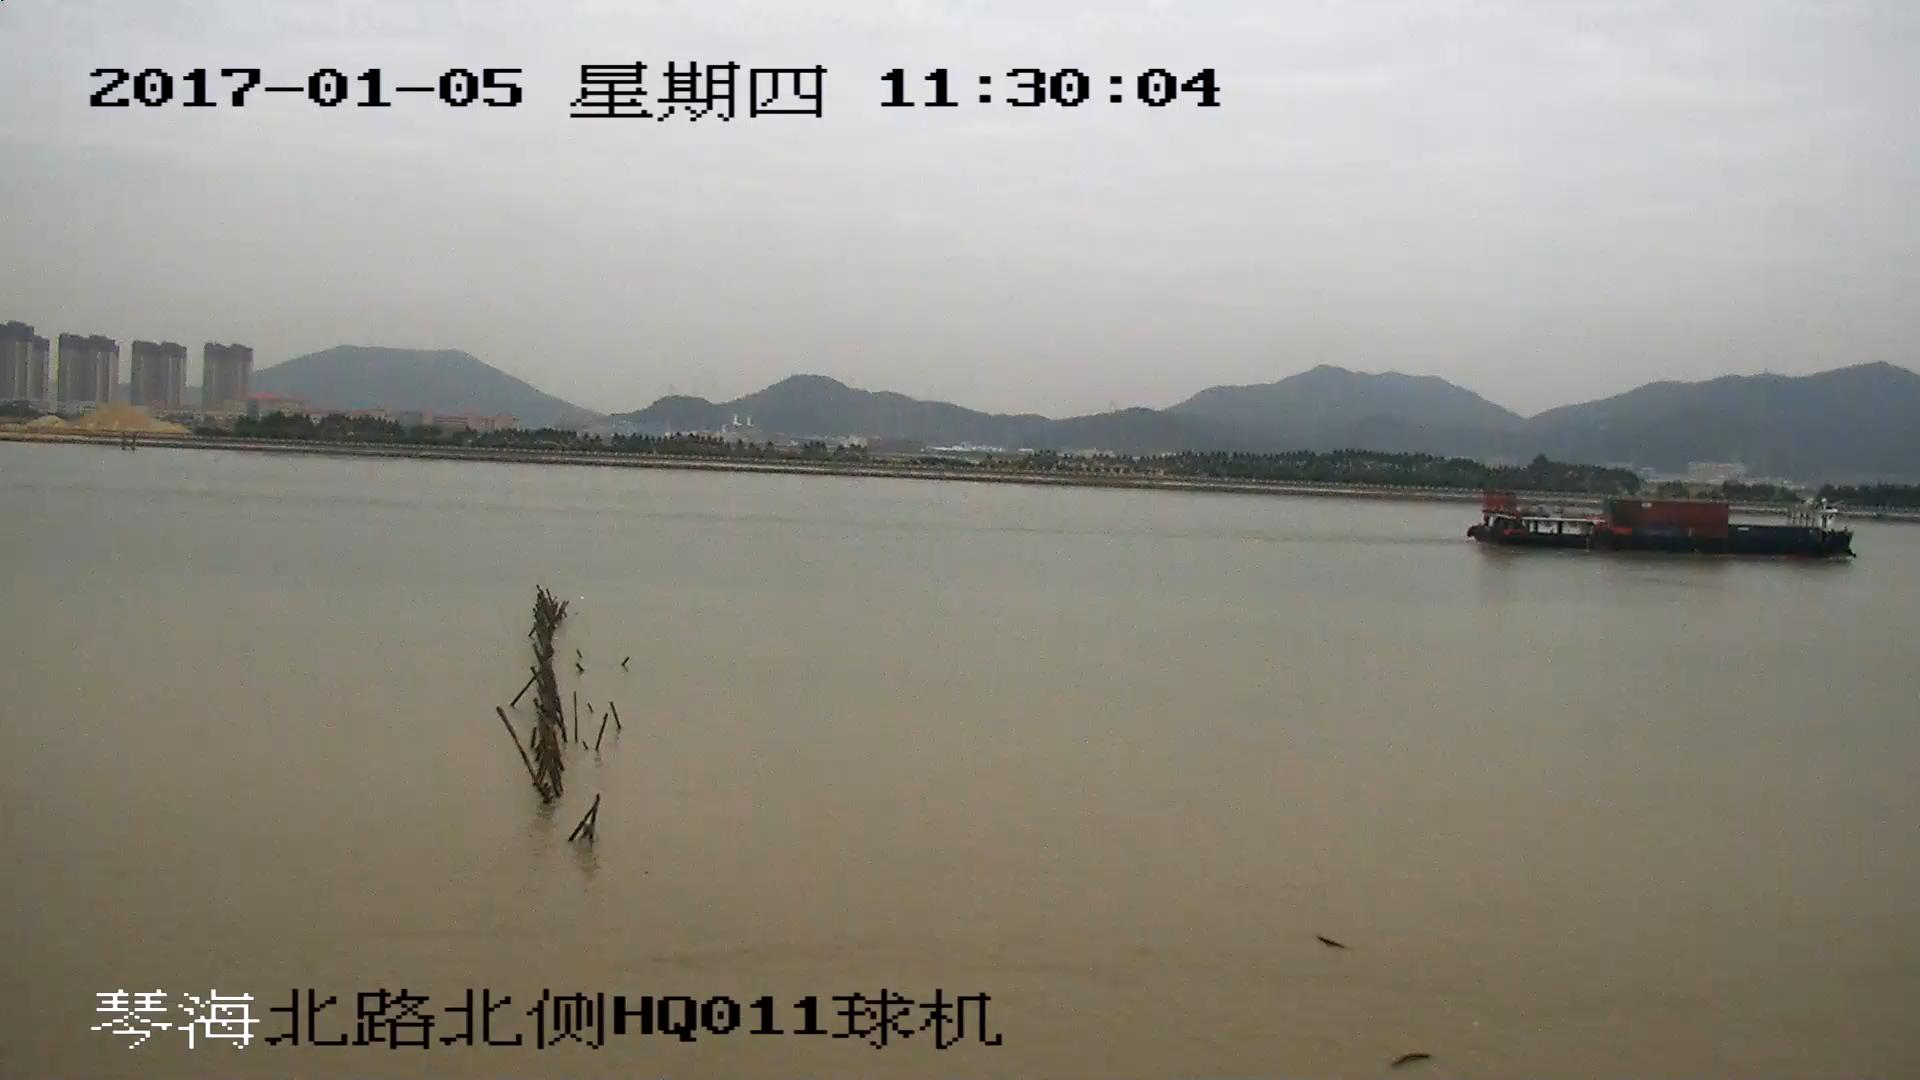container ship: (1470, 492, 1853, 558)
